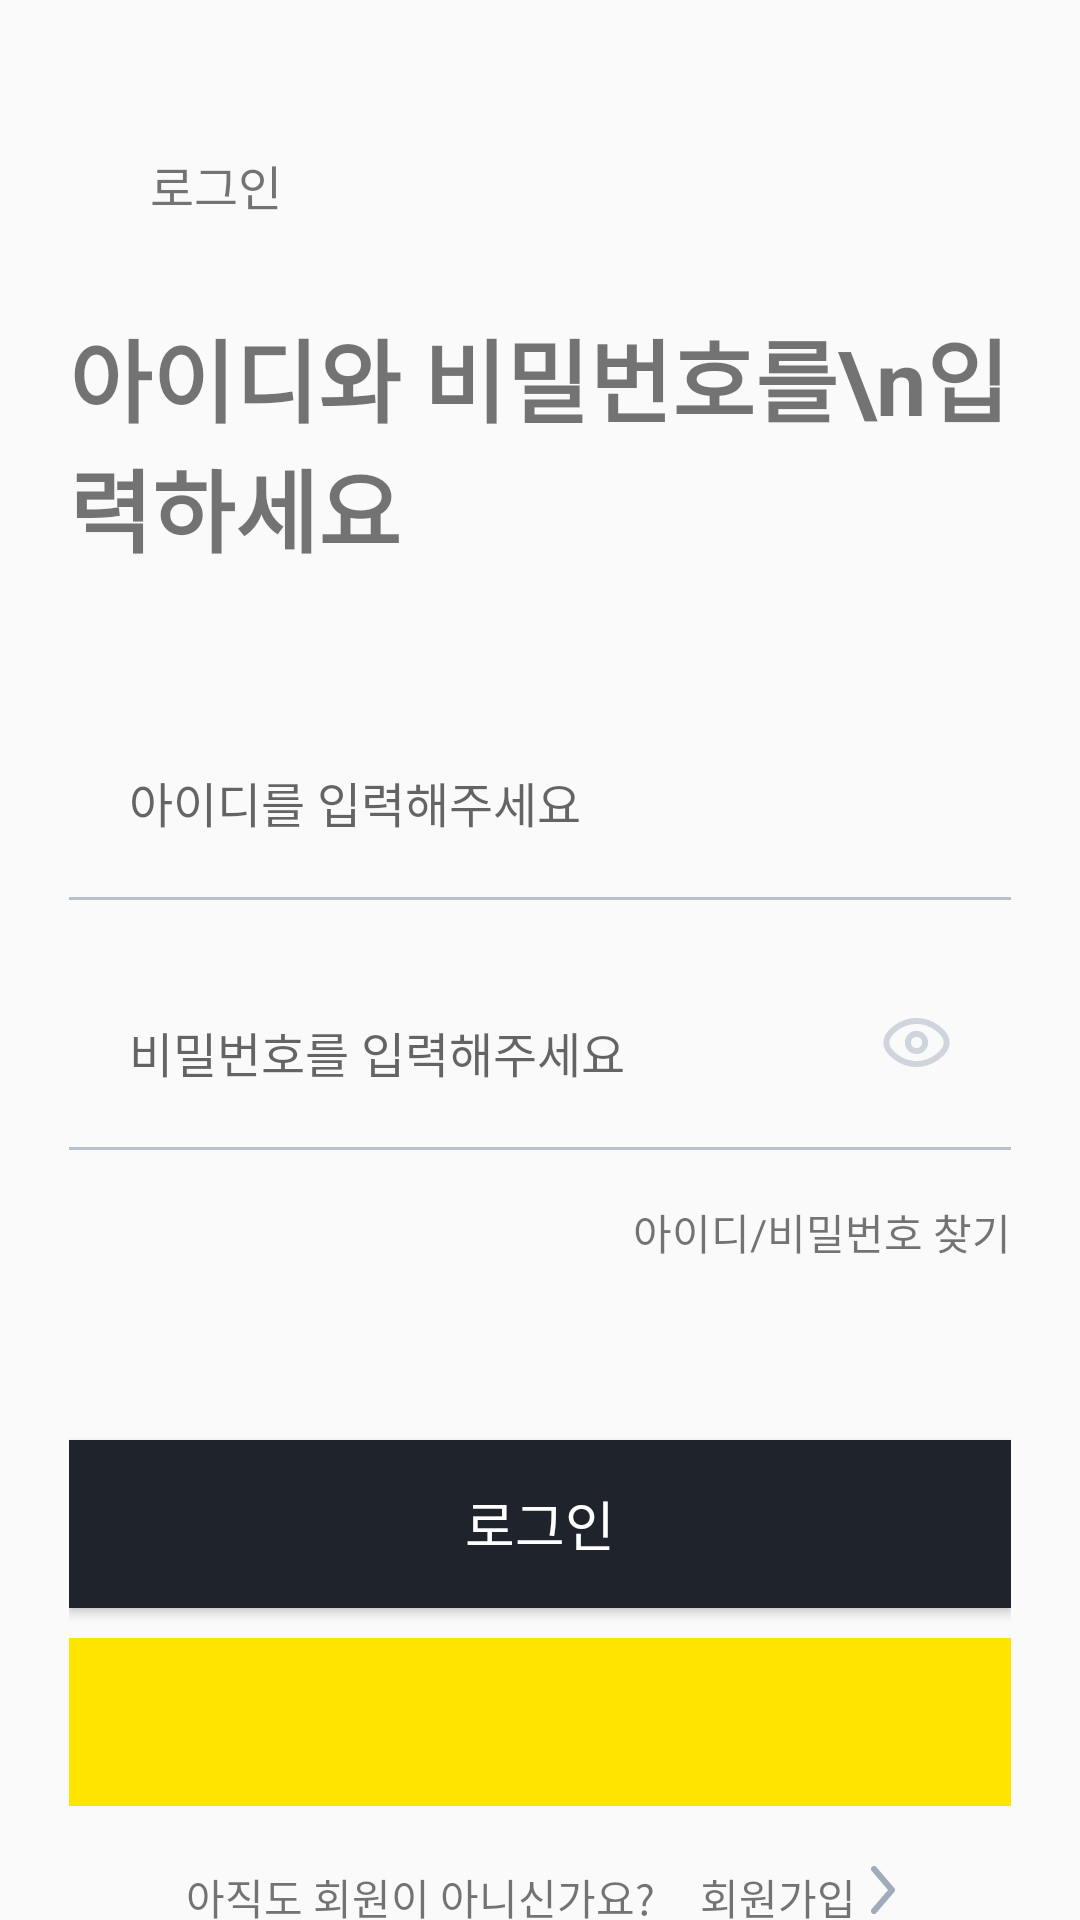

Point at icon controls on the screen. Image size 1080px×1920px, points as [x,y].
login arrow: [883,1890]
login hide: [916,1042]
